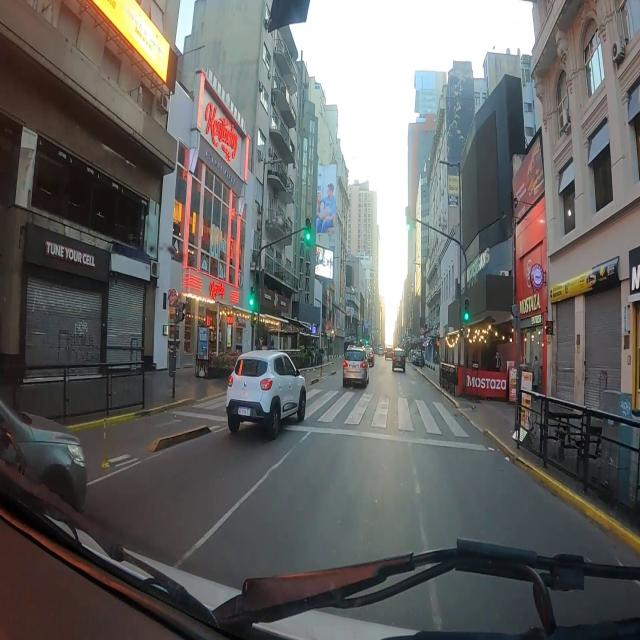car: (0, 402, 86, 511), (226, 351, 306, 439), (343, 348, 368, 387), (392, 348, 405, 371), (365, 347, 374, 366), (385, 348, 392, 359)
